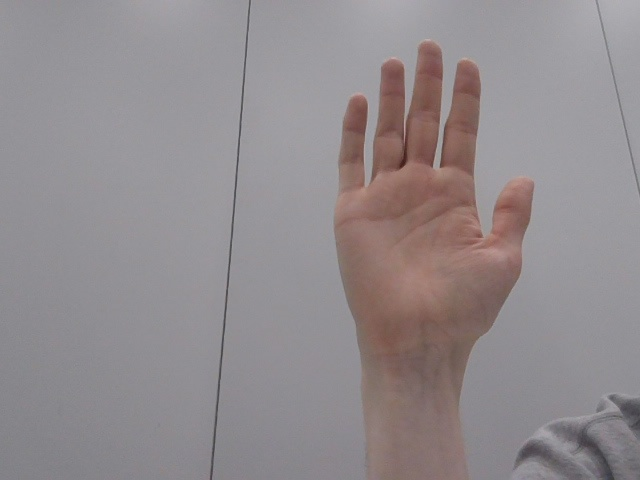nada: (290, 23, 559, 367)
